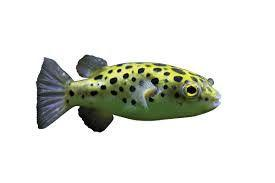Green Spotted Puffer: (37, 55, 222, 135)
